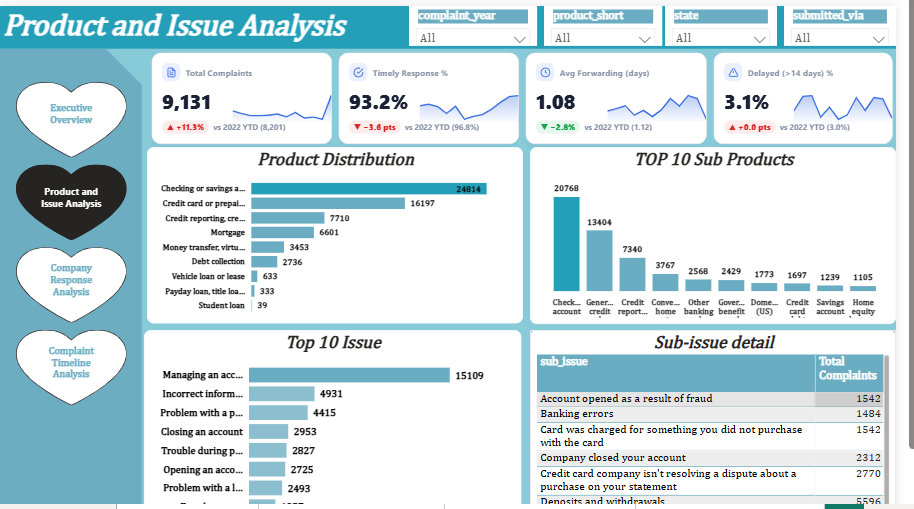

What the dashboard file says about the page in this screenshot:
{"tool":"powerbi","page":{"name":"Product and Issue Analysis","canvas":[1280,800],"ordinal":1},"visuals":[{"type":"htmlContent443BE3AD55E043BF878BED274D3A6855","fields":{"content":["new tml.Card Timely"]},"box":[478.7,61.4,267.7,207.9],"z":0},{"type":"htmlContent443BE3AD55E043BF878BED274D3A6855","fields":{"content":["COMPANY RESPONSE.Card AvgFwd"]},"box":[745.7,61.4,268.6,194.3],"z":1000},{"type":"htmlContent443BE3AD55E043BF878BED274D3A6855","fields":{"content":["new tml.Card Complaints"]},"box":[211,61.4,267.7,245.7],"z":2000},{"type":"htmlContent443BE3AD55E043BF878BED274D3A6855","fields":{"content":["COMPANY RESPONSE.Card Delayed"]},"box":[1014.3,61.4,265.7,227.1],"z":3000},{"type":"shape","box":[0,60.9,202.7,854.6],"z":4000},{"type":"textbox","box":[0,0,1280,61.4],"z":5000},{"type":"pageNavigator","box":[22.9,108.6,158.6,465.7],"z":6000},{"type":"barChart","title":"Product Distribution","fields":{"Category":["complaints_db complaints_clean.product"],"Y":["Count(complaints_db complaints_clean.complaint_id)"]},"box":[209.8,201.3,537.2,252.3],"z":7000},{"type":"slicer","fields":{"Values":["complaints_db complaints_clean.complaint_year"]},"box":[584.3,0,182.9,57.1],"z":8000},{"type":"slicer","fields":{"Values":["complaints_db complaints_clean.product_short"]},"box":[777.1,0,168.6,57.1],"z":9000},{"type":"columnChart","title":"TOP 10 Sub Products","fields":{"Category":["complaints_db complaints_clean.sub_product"],"Y":["Measures  Overview.Total Complaints"]},"box":[757.1,201.4,522.9,252.9],"z":10000},{"type":"clusteredBarChart","title":"Top 10 Issue","fields":{"Category":["complaints_db complaints_clean.issue"],"Y":["Count(complaints_db complaints_clean.complaint_id)"]},"box":[206.3,463,538.6,337],"z":11000},{"type":"slicer","fields":{"Values":["complaints_db complaints_clean.submitted_via"]},"box":[1120,0,160,57.1],"z":12000},{"type":"slicer","fields":{"Values":["complaints_db complaints_clean.state"]},"box":[950,0,160,57.1],"z":13000},{"type":"tableEx","title":"Sub-issue detail","fields":{"Values":["complaints_db complaints_clean.sub_issue","Measures  Overview.Total Complaints"]},"box":[757.1,462.9,522.9,337.1],"z":14000}]}

Visuals, with their boxes on the page's 1280x800 design canvas (x1, y1, x2, y2). These are canvas units, not pixel positions in the 914x509 screenshot, which may show the page scaled, cropped or inside an application window:
htmlContent443BE3AD55E043BF878BED274D3A6855 - new tml.Card Timely: box=[479, 61, 746, 269]
htmlContent443BE3AD55E043BF878BED274D3A6855 - COMPANY RESPONSE.Card AvgFwd: box=[746, 61, 1014, 256]
htmlContent443BE3AD55E043BF878BED274D3A6855 - new tml.Card Complaints: box=[211, 61, 479, 307]
htmlContent443BE3AD55E043BF878BED274D3A6855 - COMPANY RESPONSE.Card Delayed: box=[1014, 61, 1280, 288]
shape: box=[0, 61, 203, 916]
textbox: box=[0, 0, 1280, 61]
pageNavigator: box=[23, 109, 182, 574]
"Product Distribution" barChart: box=[210, 201, 747, 454]
slicer - complaints_db complaints_clean.complaint_year: box=[584, 0, 767, 57]
slicer - complaints_db complaints_clean.product_short: box=[777, 0, 946, 57]
"TOP 10 Sub Products" columnChart: box=[757, 201, 1280, 454]
"Top 10 Issue" clusteredBarChart: box=[206, 463, 745, 800]
slicer - complaints_db complaints_clean.submitted_via: box=[1120, 0, 1280, 57]
slicer - complaints_db complaints_clean.state: box=[950, 0, 1110, 57]
"Sub-issue detail" tableEx: box=[757, 463, 1280, 800]
